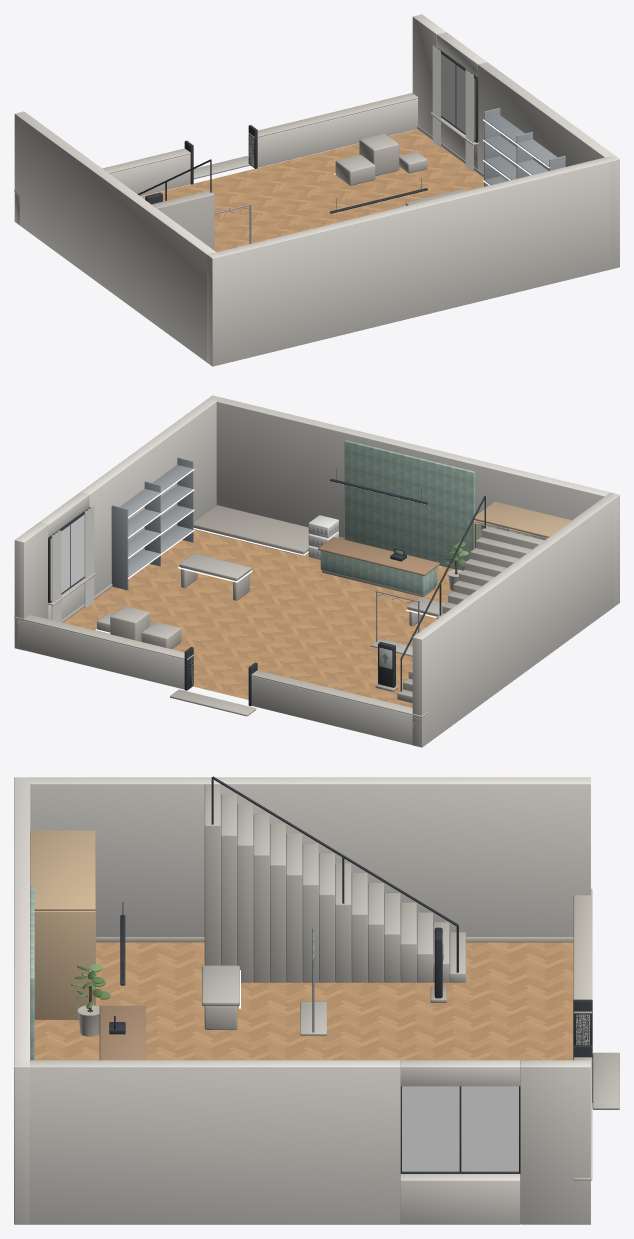
Rendered from ground.glb.
3 renders of one model, top to bottom at view 1: azimuth 30°, elevation 25°; view 2: azimuth 150°, elevation 25°; view 3: azimuth 270°, elevation 25°, orthographic. The views are drawn at different scales.
Parts seen in each view (by area): view 1: shop_ground, shop_windows; view 2: shop_ground, shop_windows; view 3: shop_ground, shop_windows.
Part boxes in pixels (x1,y1,x2,y2): shop_ground: (14, 14, 619, 366); shop_windows: (441, 54, 475, 140); shop_ground: (14, 395, 619, 747); shop_windows: (50, 514, 84, 600); shop_ground: (14, 776, 619, 1224); shop_windows: (402, 1086, 518, 1171).
Size of the model in its own units: 12.62 by 4.23 by 11.13.
Materials: 10 (2 with a texture image).
